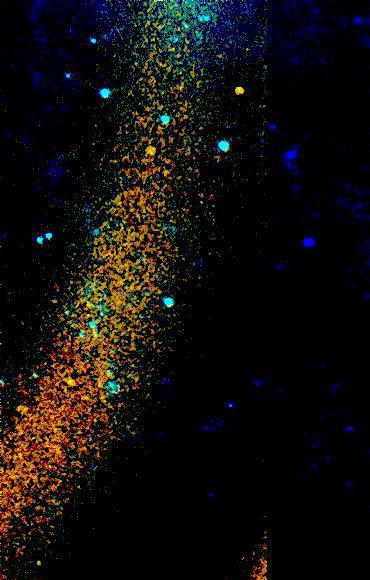star: (136, 127, 166, 157)
